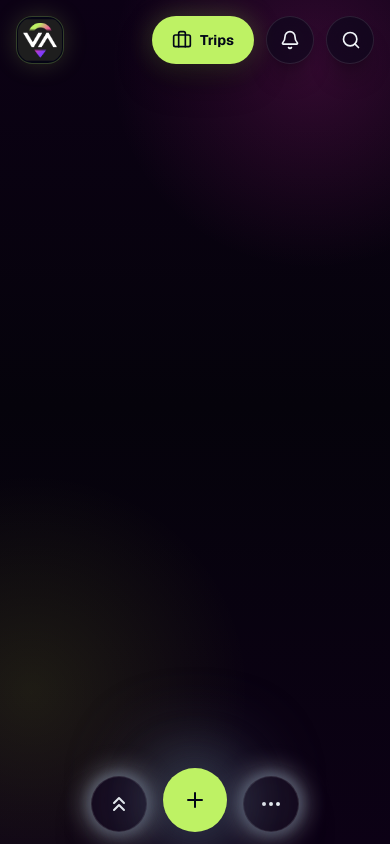
Test case: mobile navigation chrome parity › opens the full Quick Add option set without broken actions
The width and height of the screenshot is (390, 844).
Click the button named "Open quick add menu".
click(195, 800)  # box [163, 768, 227, 832]
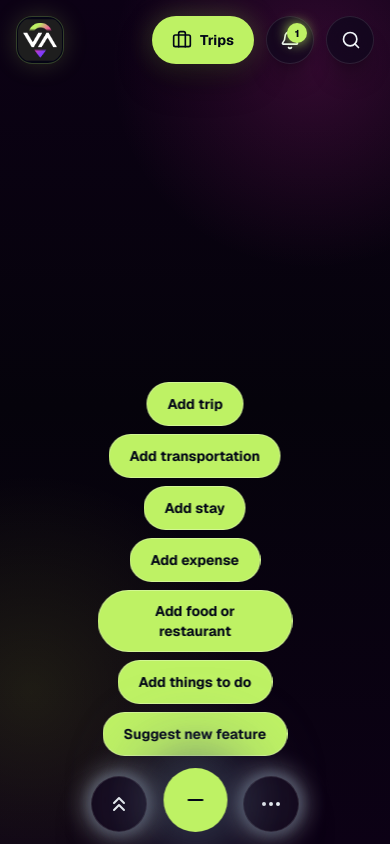
Now the button "Add trip" is enabled, box [146, 382, 244, 426]
Now the button "Add transportation" is disabled, box [109, 434, 281, 478]
Now the button "Add stay" is disabled, box [144, 486, 246, 530]
